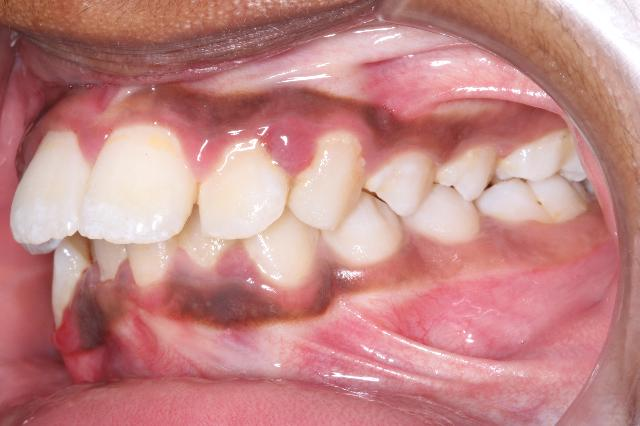canine class III 1/4: (245, 108, 403, 290)
molar class III 1/4: (475, 123, 605, 237)
